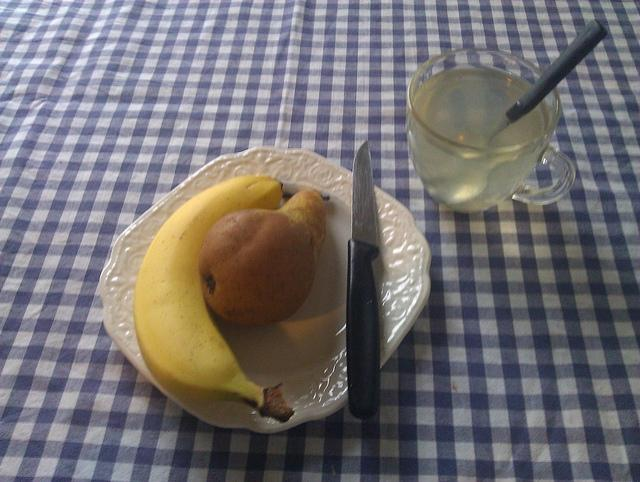banana: (132, 176, 296, 423)
pear: (198, 188, 330, 326)
